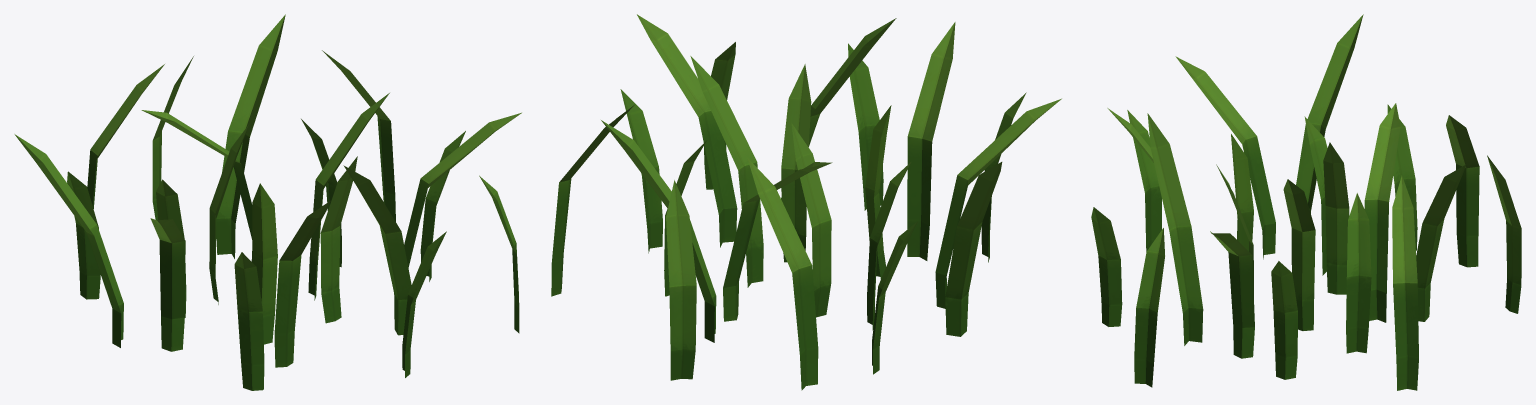
The model's file is GrassMedium2.fbx.
3 renders of one model, left to right at view 1: azimuth 30°, elevation 25°; view 2: azimuth 150°, elevation 25°; view 3: azimuth 270°, elevation 25°, orthographic. The views are drawn at different scales.
Parts seen in each view (by area): view 1: GrassMedium2; view 2: GrassMedium2; view 3: GrassMedium2.
Boxes of the visible parts, x1,y1,x2,y2 form: GrassMedium2: (14,14,521,390); GrassMedium2: (551,14,1061,390); GrassMedium2: (1091,14,1521,390).
Bounding box in the file's own units: 0.9629 × 0.4406 × 0.89.
